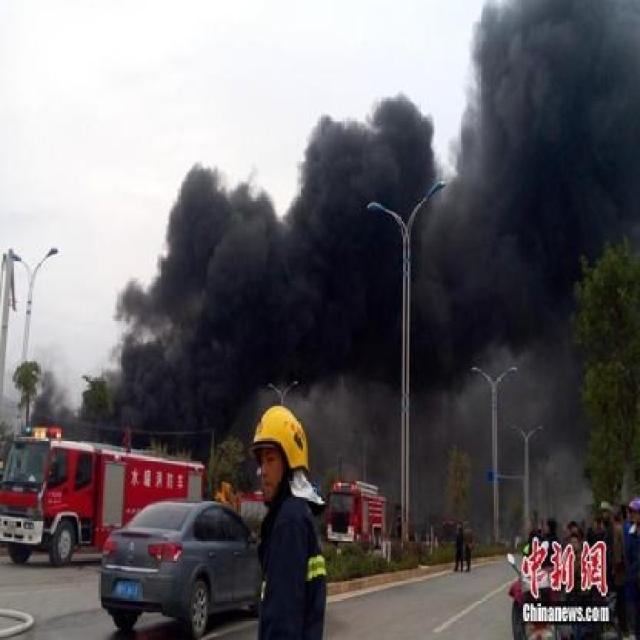Smoke: (93, 0, 632, 443)
